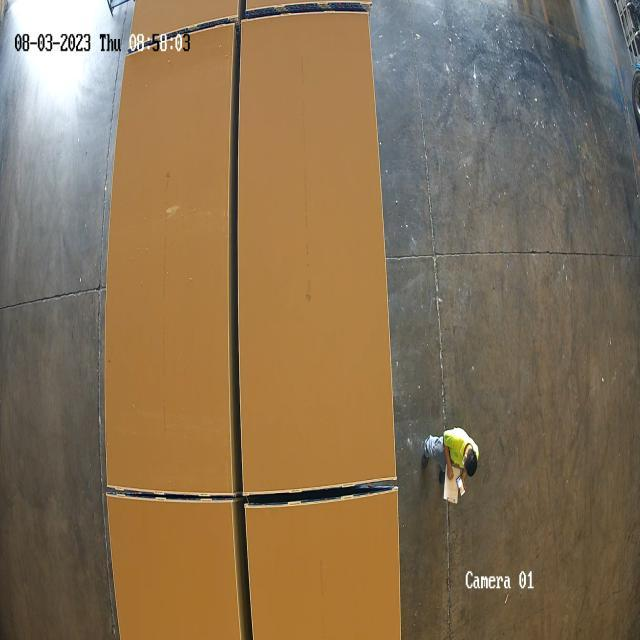person: (422, 414, 480, 516)
